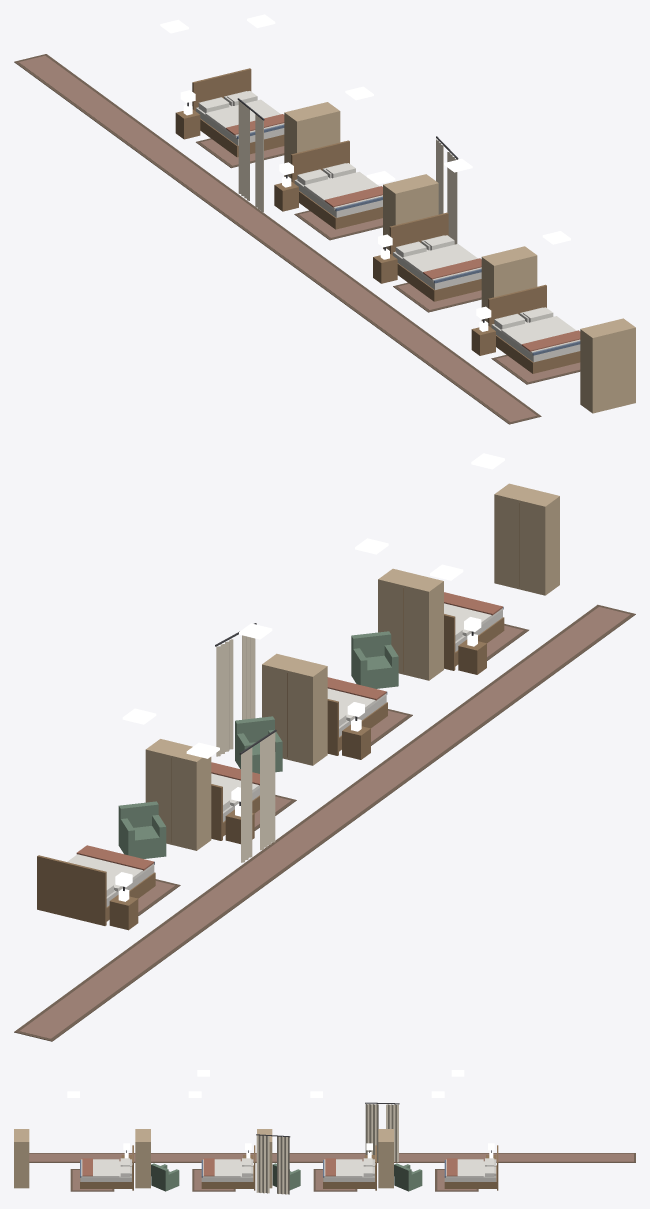
File: fine-s1.glb
3 renders of one model, top to bottom at view 1: azimuth 30°, elevation 25°; view 2: azimuth 150°, elevation 25°; view 3: azimuth 270°, elevation 25°, orthographic. The views are drawn at different scales.
Visible parts, largest first — view 1: soft-s1, dresser.003, bed-frame.002, bed-frame.003, bed-frame.001, bed-frame.000, dresser.002, dresser.000, dresser.001, nightstand.000, nightstand.002, nightstand.003 (+1 smaller); view 2: soft-s1, dresser.003, dresser.001, dresser.002, dresser.000, bed-frame.000, lounge-chair.000, lounge-chair.002, lounge-chair.001, bed-frame.003, bed-frame.002, nightstand.000 (+3 smaller); view 3: soft-s1, dresser.000, dresser.002, dresser.003, bed-frame.000, bed-frame.002, bed-frame.001, bed-frame.003, lounge-chair.000, lounge-chair.002, lounge-chair.001, dresser.001.
Part boxes in pixels (x1,y1,x2,y2): soft-s1: (14, 54, 580, 424); dresser.003: (580, 318, 635, 413); bed-frame.002: (389, 212, 481, 301); bed-frame.003: (488, 284, 580, 373); bed-frame.001: (291, 140, 382, 229); bed-frame.000: (192, 68, 284, 157); dresser.002: (481, 246, 537, 322); dresser.000: (284, 102, 340, 178); dresser.001: (383, 174, 438, 250); nightstand.000: (175, 104, 200, 139); nightstand.002: (373, 248, 397, 283); nightstand.003: (471, 321, 495, 355); soft-s1: (14, 592, 635, 1041); dresser.003: (494, 483, 559, 595); dresser.001: (262, 653, 327, 765); dresser.002: (378, 568, 443, 680); dresser.000: (145, 739, 211, 850); bed-frame.000: (37, 855, 155, 925); lounge-chair.000: (118, 801, 166, 858); lounge-chair.002: (351, 631, 398, 688); lounge-chair.001: (235, 716, 282, 773); bed-frame.003: (444, 606, 504, 670); bed-frame.002: (327, 692, 387, 755); nightstand.000: (109, 888, 138, 930); soft-s1: (29, 1102, 635, 1194); dresser.000: (378, 1129, 393, 1188); dresser.002: (135, 1129, 150, 1188); dresser.003: (14, 1129, 29, 1188); bed-frame.000: (444, 1145, 498, 1190); bed-frame.002: (201, 1145, 255, 1190); bed-frame.001: (323, 1145, 376, 1190); bed-frame.003: (80, 1145, 133, 1190); lounge-chair.000: (394, 1163, 422, 1191); lounge-chair.002: (151, 1163, 179, 1191); lounge-chair.001: (272, 1163, 300, 1190); dresser.001: (257, 1129, 272, 1188).
Size of the model in its own units: 3.95 by 3.67 by 24.23.
